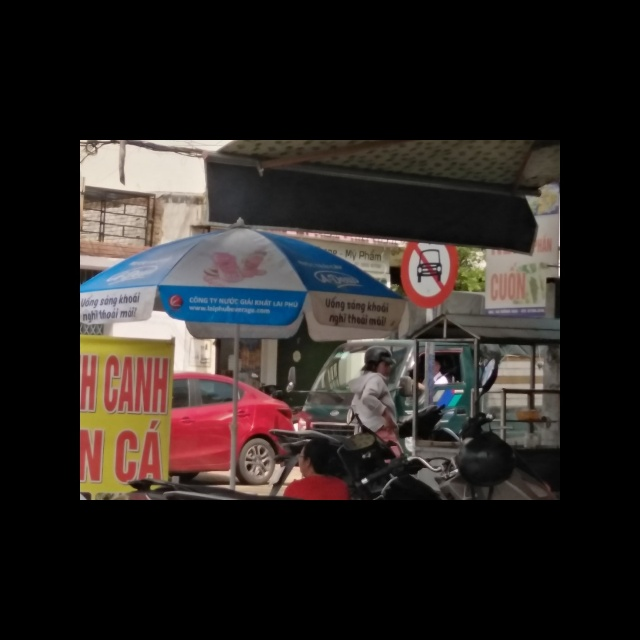Cấm xe ô tô: (396, 242, 459, 311)
